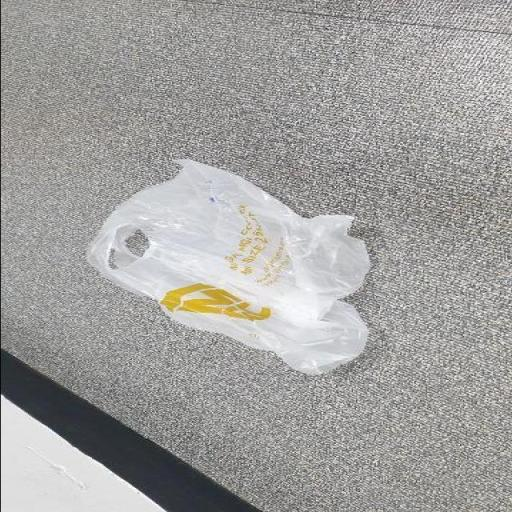plastic-bag: (84, 155, 374, 378)
